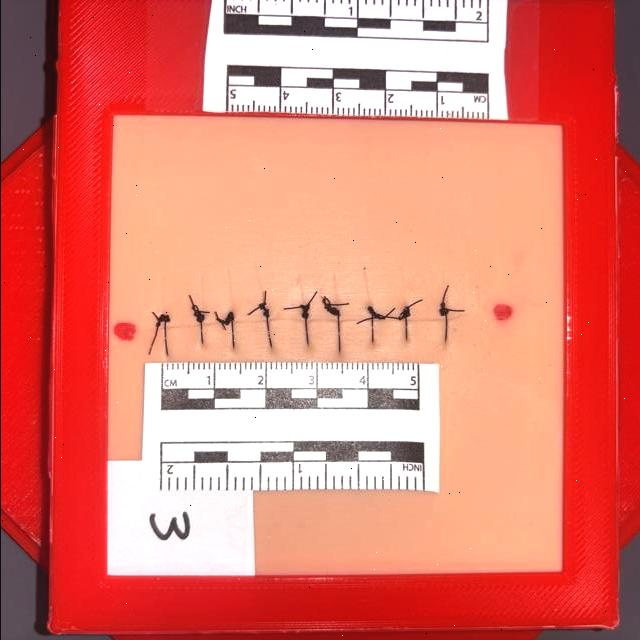incision_line: (129, 314, 463, 334)
scale_marker: (161, 363, 214, 389)
suture_d: (165, 323, 201, 333), (268, 321, 306, 328), (306, 320, 338, 328), (202, 324, 232, 332), (406, 322, 446, 328), (232, 322, 266, 329), (372, 322, 406, 328), (339, 321, 372, 327)
suture_l: (161, 316, 171, 328), (442, 306, 448, 320), (197, 316, 205, 326), (368, 310, 374, 322), (334, 310, 340, 322), (403, 312, 409, 322), (264, 312, 269, 322), (302, 312, 308, 320), (228, 316, 234, 324)
suture_r: (335, 321, 342, 354), (367, 320, 375, 346), (442, 319, 449, 345), (266, 320, 272, 350), (162, 329, 168, 357), (228, 324, 234, 352), (302, 319, 308, 347), (401, 321, 408, 345), (198, 326, 204, 346)
